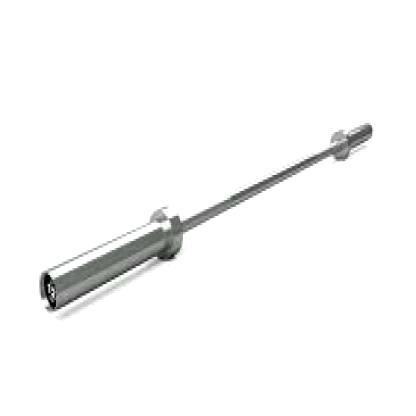Barbell: (32, 263, 67, 321)
